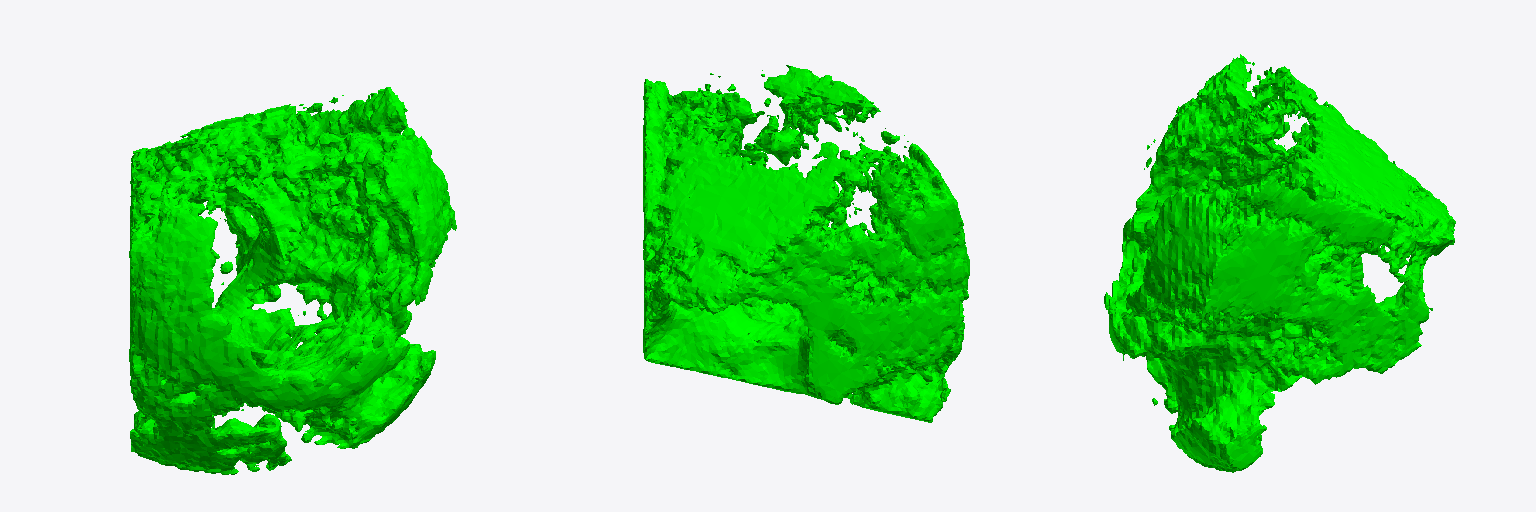
The model's file is B939XXXX-1_base_29.obj.
The picture shows the model from 3 angles: view 1: azimuth 30°, elevation 25°; view 2: azimuth 150°, elevation 25°; view 3: azimuth 270°, elevation 25°; orthographic projection.
Visible parts, largest first — view 1: 29_base; view 2: 29_base; view 3: 29_base.
Part boxes in pixels (x1,y1,x2,y2): 29_base: (129, 87, 456, 474); 29_base: (643, 65, 969, 422); 29_base: (1104, 54, 1455, 472).
Size of the model in its own units: 217 by 219 by 205.